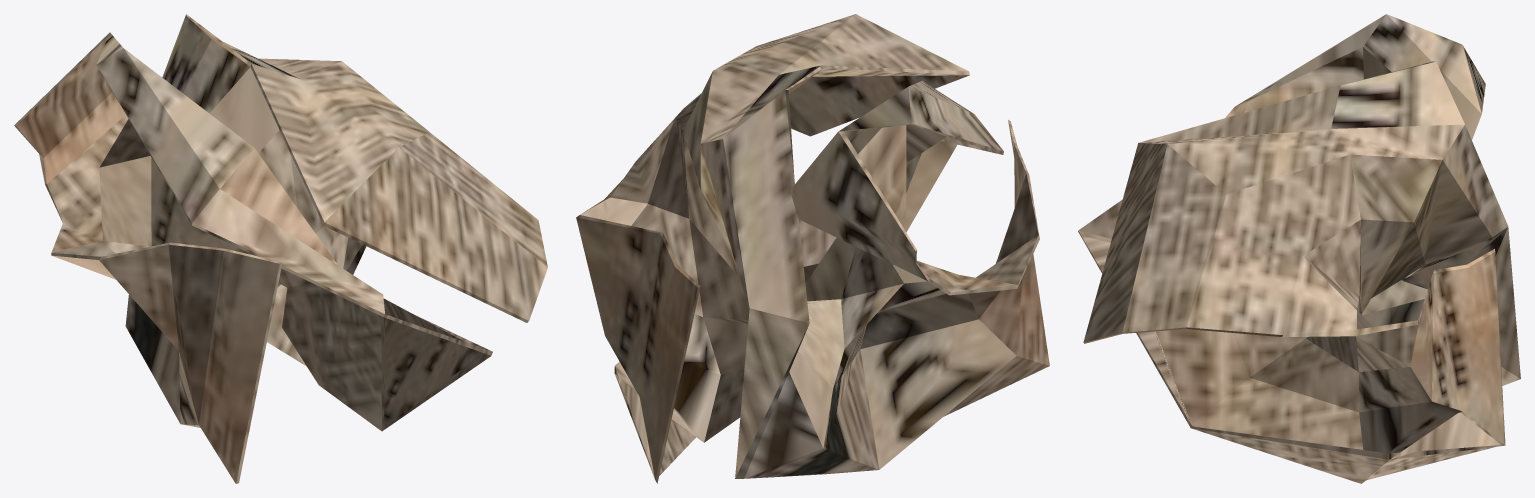
File: papir2.fbx
3 renders of one model, left to right at view 1: azimuth 30°, elevation 25°; view 2: azimuth 150°, elevation 25°; view 3: azimuth 270°, elevation 25°, orthographic. The views are drawn at different scales.
Visible parts, largest first — view 1: Plane; view 2: Plane; view 3: Plane.
Boxes of the visible parts, bbox=[...] form: Plane: bbox=[14, 14, 547, 483]; Plane: bbox=[576, 14, 1049, 483]; Plane: bbox=[1078, 14, 1520, 483].
Size of the model in its own units: 19.29 by 19.23 by 18.38.
Materials: 1 (1 with a texture image).
